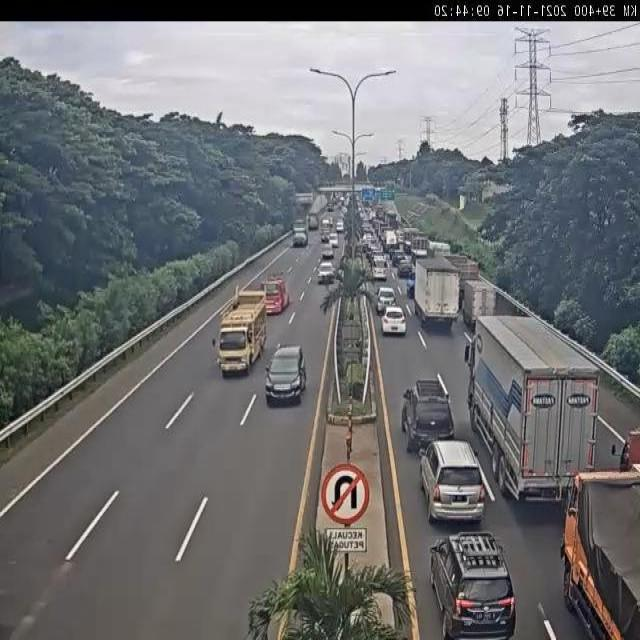Car: (429, 531, 516, 640), (420, 438, 486, 524), (400, 378, 456, 452), (264, 344, 306, 406), (380, 305, 408, 336), (375, 286, 397, 314), (317, 261, 335, 284), (398, 261, 413, 278), (391, 249, 405, 267), (322, 244, 334, 259), (329, 232, 339, 248), (403, 240, 412, 255), (336, 220, 344, 233), (327, 203, 334, 212)
Truck: (464, 311, 603, 496), (559, 465, 640, 640), (212, 286, 271, 375), (412, 256, 461, 333), (462, 278, 496, 330), (446, 254, 481, 297), (261, 274, 291, 316), (411, 235, 432, 259), (291, 218, 309, 246), (403, 227, 421, 252), (384, 228, 398, 252), (306, 211, 320, 231)
Van: (371, 253, 388, 281)
